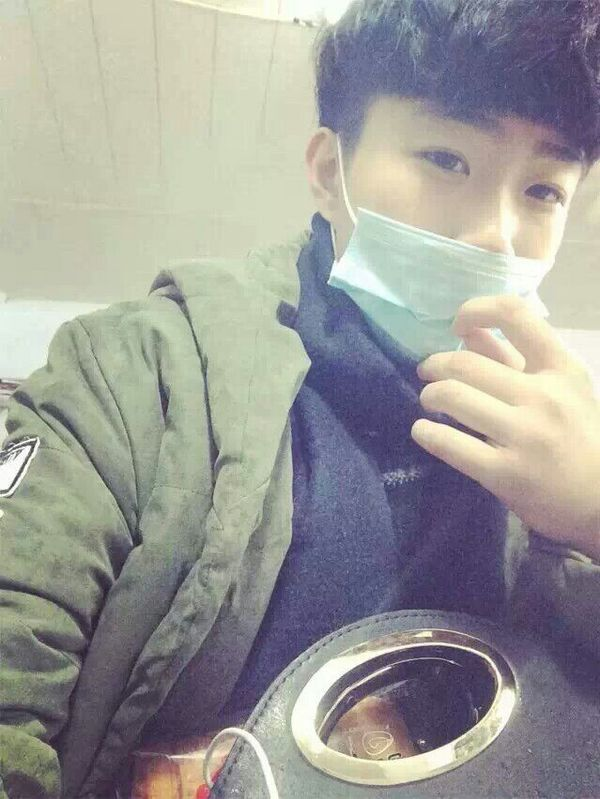face_mask: (340, 67, 577, 366)
